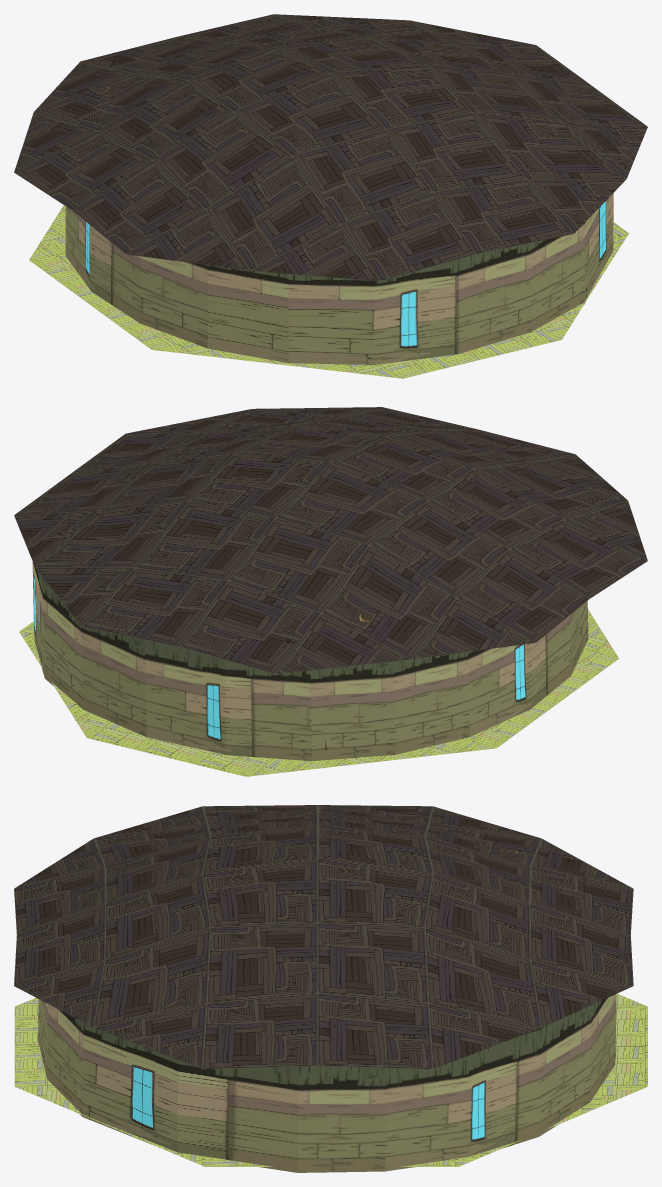
Rendered from TreeFort.glb.
3 renders of one model, top to bottom at view 1: azimuth 30°, elevation 25°; view 2: azimuth 150°, elevation 25°; view 3: azimuth 270°, elevation 25°, orthographic. The views are drawn at different scales.
Parts seen in each view (by area): view 1: TreeFort_FloorCeiling, TreeFort_Furniture; view 2: TreeFort_FloorCeiling, TreeFort_Furniture; view 3: TreeFort_FloorCeiling, TreeFort_Furniture.
Part boxes in pixels (left/top/right/bottom): TreeFort_FloorCeiling: left=14, top=14, right=647, bottom=378; TreeFort_Furniture: left=65, top=84, right=613, bottom=364; TreeFort_FloorCeiling: left=14, top=407, right=647, bottom=776; TreeFort_Furniture: left=32, top=466, right=588, bottom=760; TreeFort_FloorCeiling: left=14, top=805, right=647, bottom=1166; TreeFort_Furniture: left=38, top=848, right=616, bottom=1172.
Bounding box in the file's own units: 46.4 × 15.65 × 47.26.
Materials: 3 (3 with a texture image).
